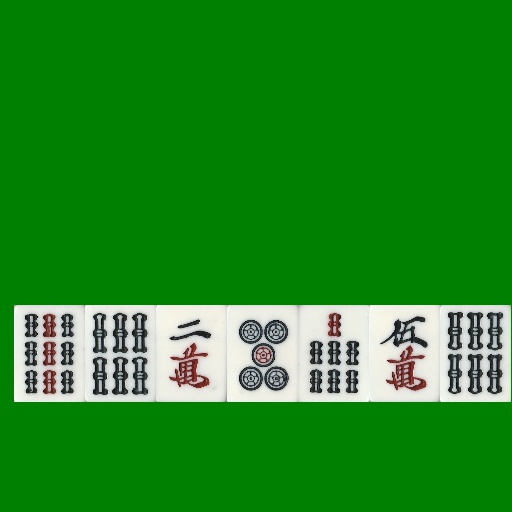2m: (156, 305, 227, 402)
5m: (369, 305, 440, 402)
5p: (227, 305, 298, 402)
6s: (85, 305, 156, 402), (440, 305, 511, 402)
7s: (298, 305, 369, 402)
9s: (14, 305, 85, 402)
